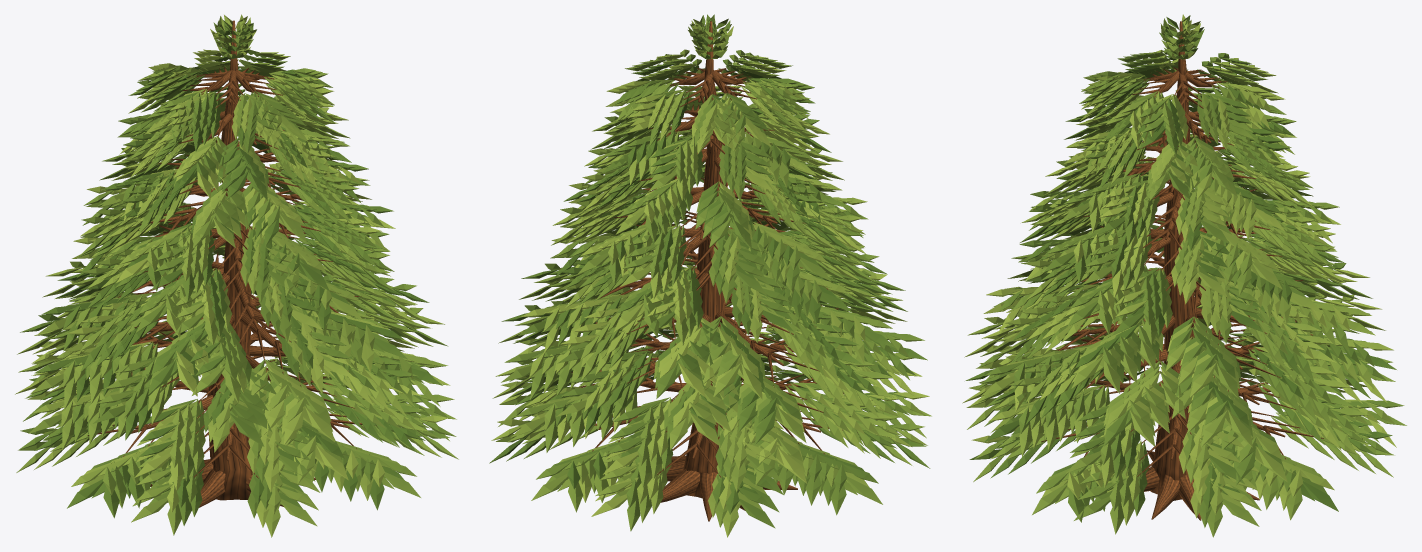
Rendered from SculptedSpruce.fbx.
3 views of the same model, side by side, from view 1: azimuth 30°, elevation 25°; view 2: azimuth 150°, elevation 25°; view 3: azimuth 270°, elevation 25° (orthographic).
Parts seen in each view (by area): view 1: SM_SculptedSpruce_Foliage_LOD0, SM_SculptedSpruce_Bark_LOD0; view 2: SM_SculptedSpruce_Foliage_LOD0, SM_SculptedSpruce_Bark_LOD0; view 3: SM_SculptedSpruce_Foliage_LOD0, SM_SculptedSpruce_Bark_LOD0.
Part boxes in pixels (x1,y1,x2,y2): SM_SculptedSpruce_Foliage_LOD0: (15,14,458,537); SM_SculptedSpruce_Bark_LOD0: (87,20,376,507); SM_SculptedSpruce_Foliage_LOD0: (489,14,931,537); SM_SculptedSpruce_Bark_LOD0: (569,21,857,521); SM_SculptedSpruce_Foliage_LOD0: (962,14,1406,537); SM_SculptedSpruce_Bark_LOD0: (1041,21,1323,520).
Size of what is drawn, in the model's own units: 7.64 by 8.65 by 7.53.
Materials: 2 (2 with a texture image).
